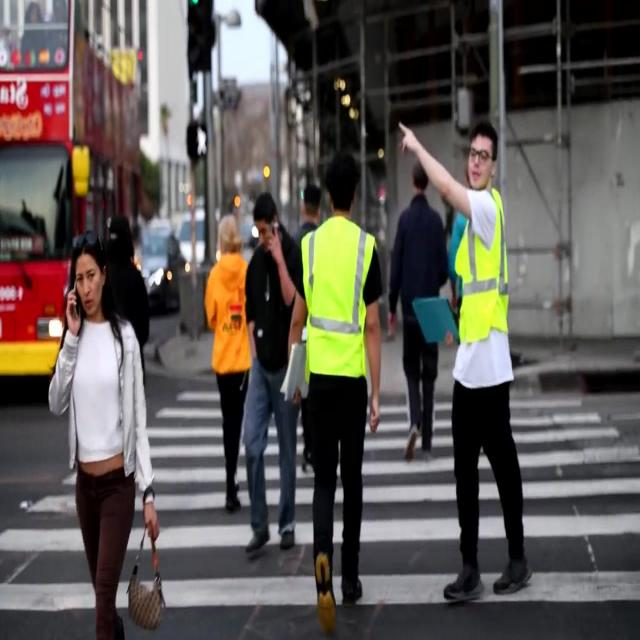Reflective-Jacket: (297, 215, 381, 391), (450, 184, 516, 368)
